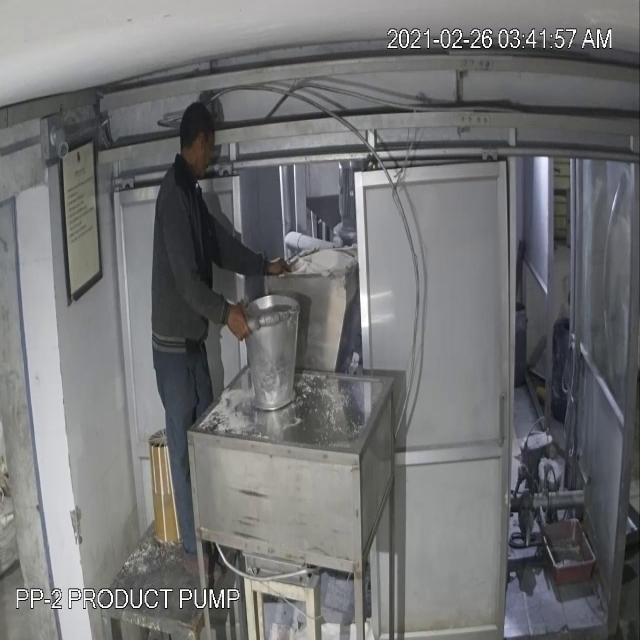no-helmet: (176, 96, 216, 193)
